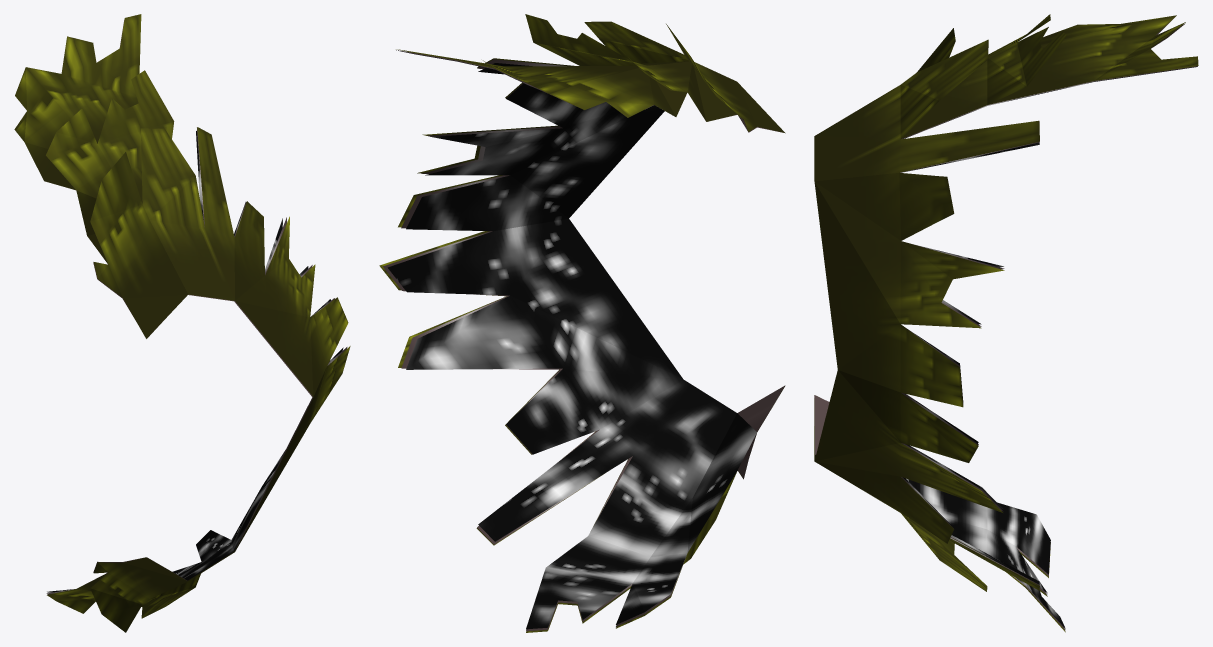
The picture shows the model from 3 angles, left to right: view 1: azimuth 30°, elevation 25°; view 2: azimuth 150°, elevation 25°; view 3: azimuth 270°, elevation 25°; orthographic projection. The views are drawn at different scales.
Visible parts, largest first — view 1: B_0044_3b_0, B_0044_3b_1; view 2: B_0044_3b_1, B_0044_3b_0; view 3: B_0044_3b_0, B_0044_3b_1.
Boxes of the visible parts, x1,y1,x2,y2 form: B_0044_3b_0: (14,14,350,632); B_0044_3b_1: (47,131,343,592); B_0044_3b_1: (387,50,756,629); B_0044_3b_0: (379,14,785,632); B_0044_3b_0: (814,14,1198,632); B_0044_3b_1: (815,27,1197,628).
Size of the model in its own units: 1.68 by 3 by 1.75.
